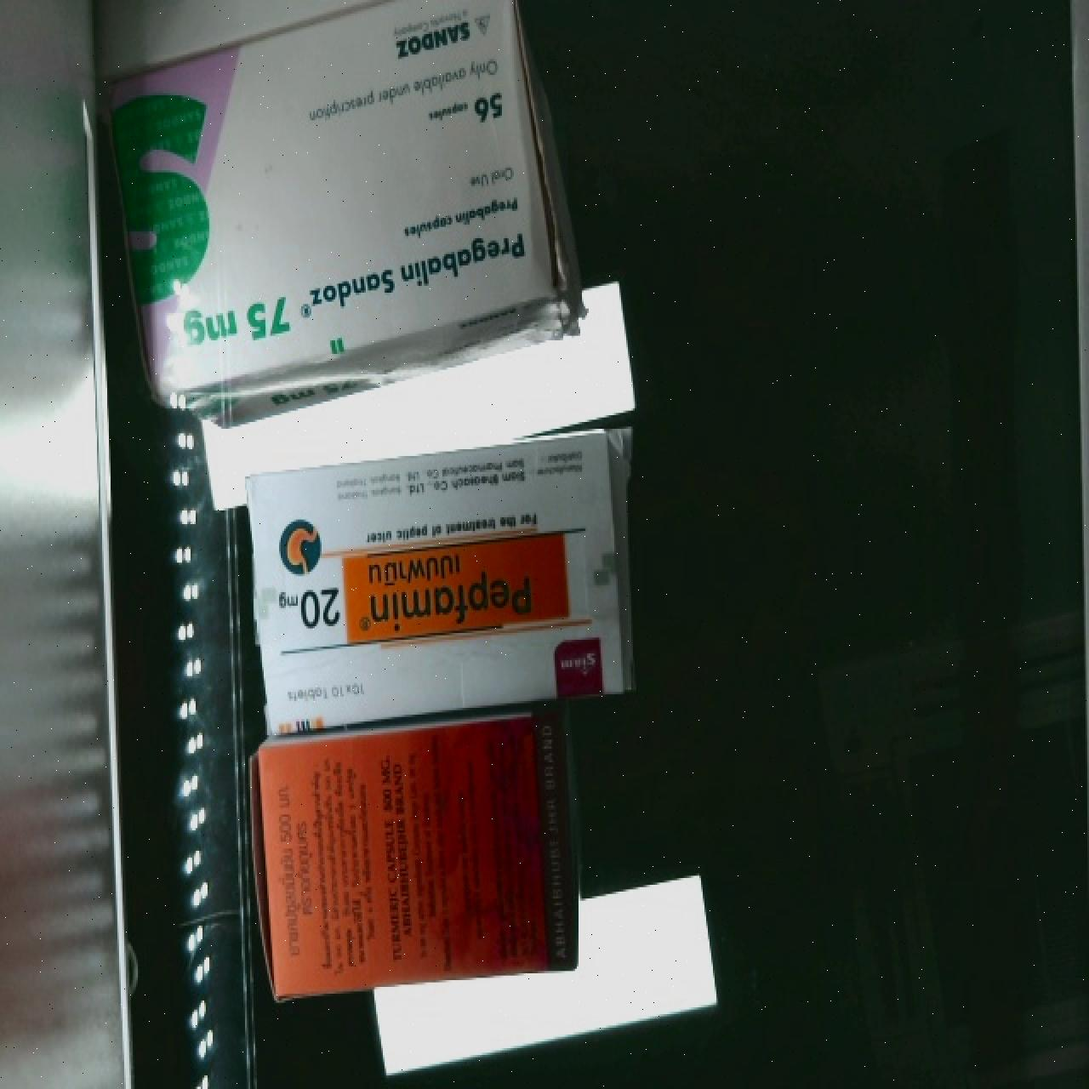medicine_label_obb: (163, 201, 553, 385), (268, 527, 577, 657)
